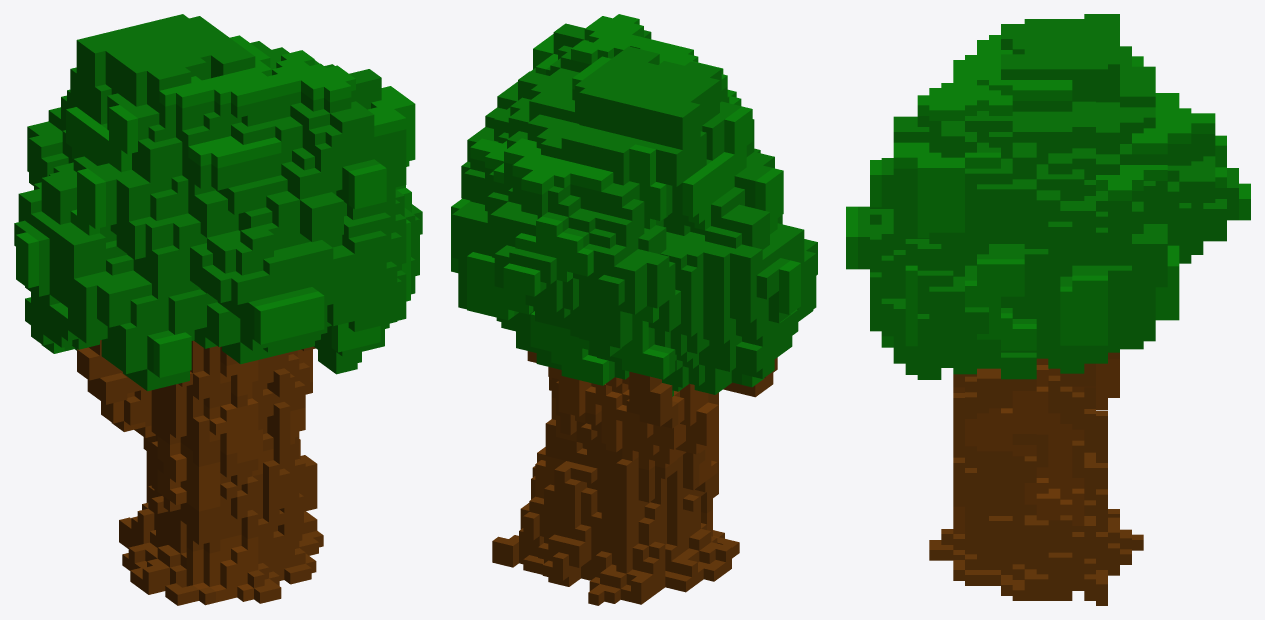
The model's file is Tree03.obj.
3 views of the same model, side by side, from view 1: azimuth 30°, elevation 25°; view 2: azimuth 150°, elevation 25°; view 3: azimuth 270°, elevation 25° (orthographic). The views are drawn at different scales.
Bounding box in the file's own units: 33 × 46 × 34.
Materials: 1 (1 with a texture image).
